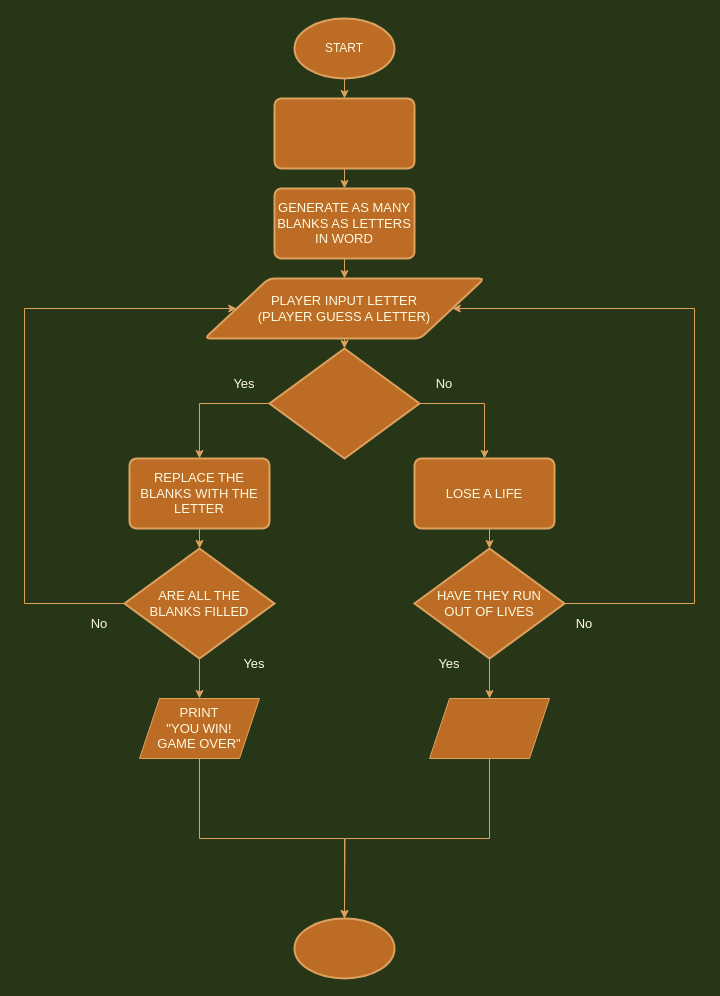
Image size: 720x996. Some labels were removed from this diagram. The shapes that lost their labels are listed below. From the top down, each one's centre as x and y in pixels, then its label:
[344,133]: GENERATE A RANDOM WORD
[344,403]: IS THE GUESSED LETTER IN THE WORD
[489,728]: PRINT "YOU LOSE! GAME OVER"
[344,948]: END
